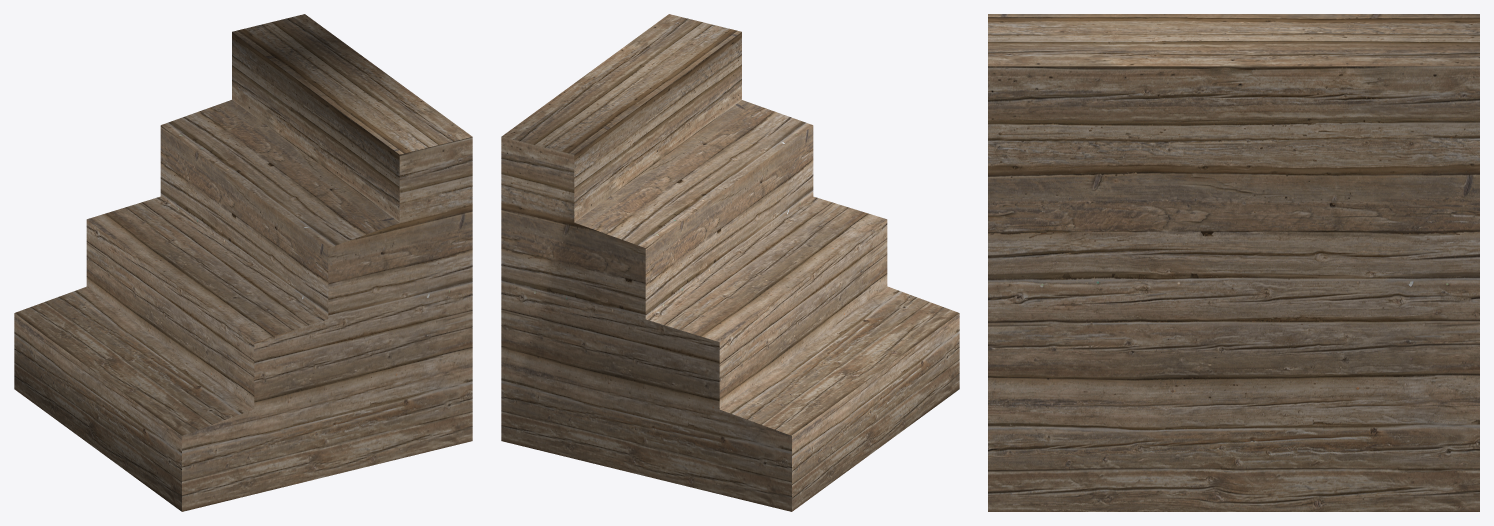
File: stair_block.glb
3 renders of one model, left to right at view 1: azimuth 30°, elevation 25°; view 2: azimuth 150°, elevation 25°; view 3: azimuth 270°, elevation 25°, orthographic. The views are drawn at different scales.
Visible parts, largest first — view 1: Object_2; view 2: Object_2; view 3: Object_2.
Boxes of the visible parts, x1,y1,x2,y2 form: Object_2: (14, 14, 472, 511); Object_2: (501, 14, 959, 511); Object_2: (988, 14, 1479, 511).
Bounding box in the file's own units: 100 × 100 × 100.
Materials: 1 (1 with a texture image).
